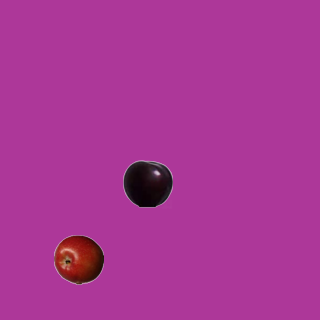Apple Braeburn: (53, 234, 103, 284)
Cherry Wax Black: (122, 158, 172, 208)
